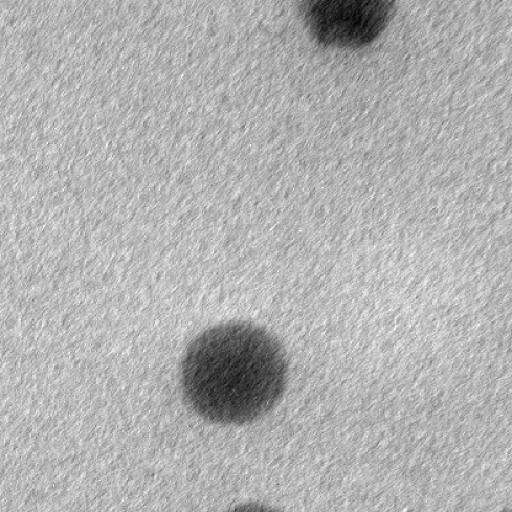Nanoparticles: (184, 320, 300, 431), (300, 0, 400, 52), (233, 496, 282, 512)
